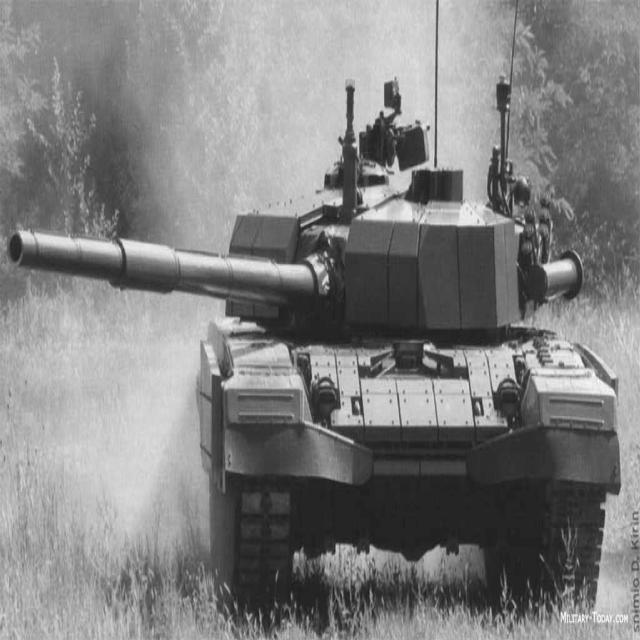Tank: (11, 70, 621, 608)
